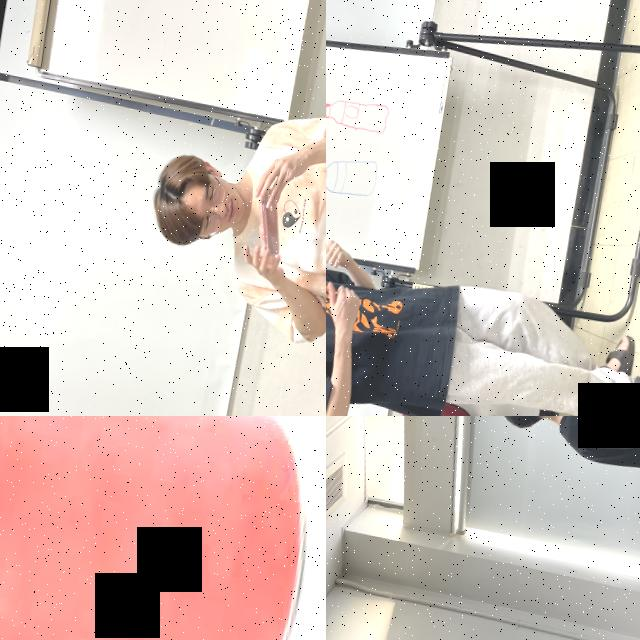can: (0, 416, 326, 640)
